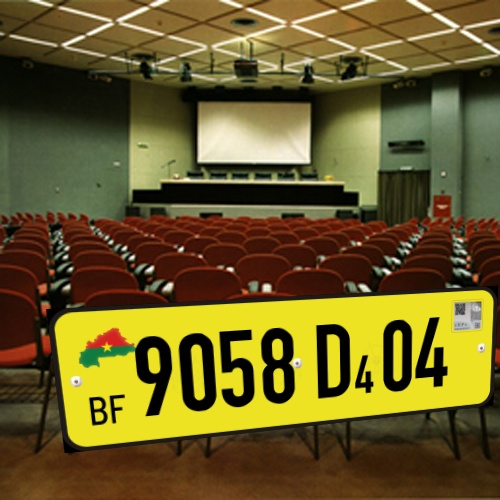plate: (39, 281, 500, 461)
